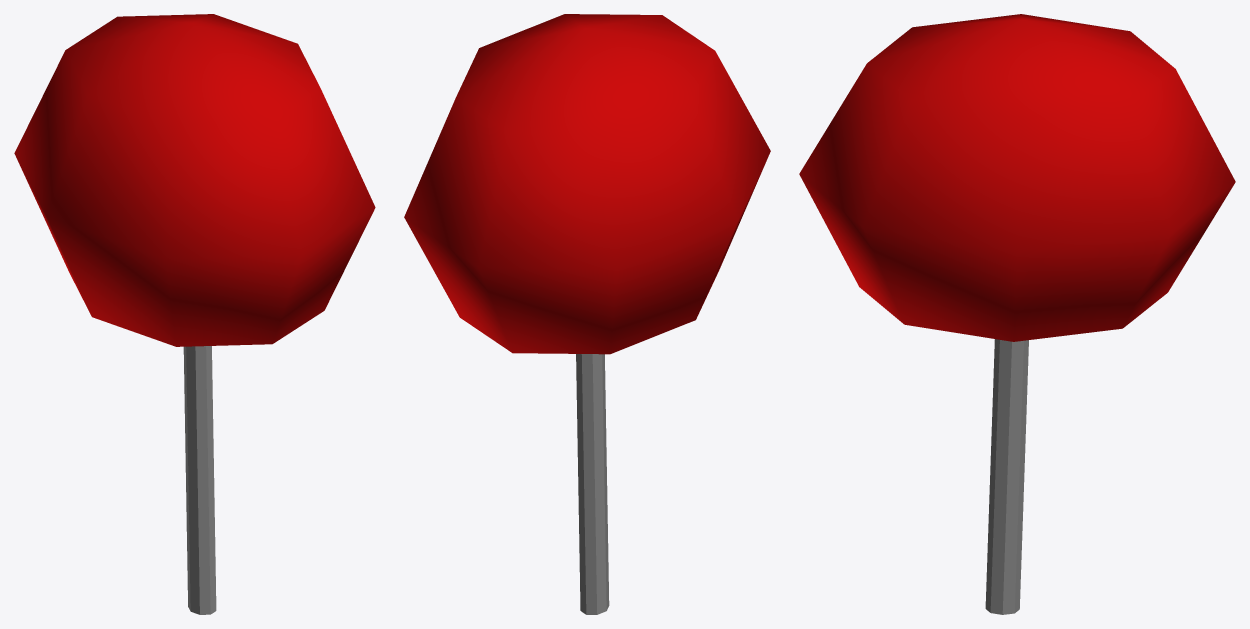
The model's file is MOD_BalloonE.FBX.
3 renders of one model, left to right at view 1: azimuth 30°, elevation 25°; view 2: azimuth 150°, elevation 25°; view 3: azimuth 270°, elevation 25°, orthographic.
Visible parts, largest first — view 1: Object005; view 2: Object005; view 3: Object005.
Boxes of the visible parts, <box> form: Object005: <box>14,14,375,614</box>; Object005: <box>404,14,770,614</box>; Object005: <box>799,14,1235,614</box>.
Size of the model in its own units: 18.5 by 34.48 by 23.14.
